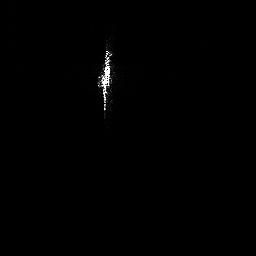ship: (96, 40, 115, 120)
